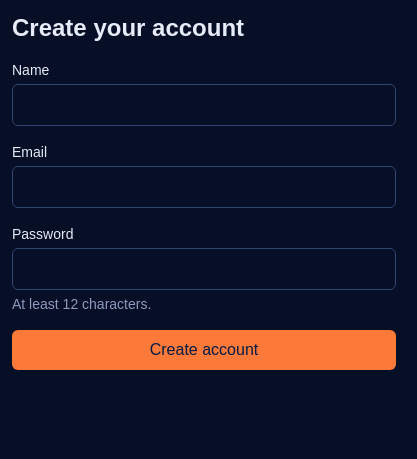
Scenario: RegisterForm › never renders the password back to the user
This screenshot has width=417, height=459.
Type "Ann" into the field labelled "Name".
click(204, 105); type("Ann")  # box [12,84,396,126]
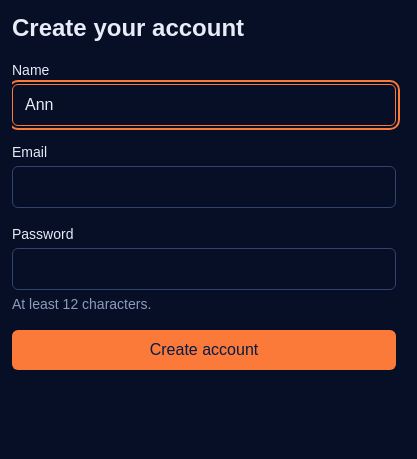
Type "ann@example.invalid" into the field labelled "Email".
click(204, 187); type("ann@example.invalid")  # box [12,166,396,208]
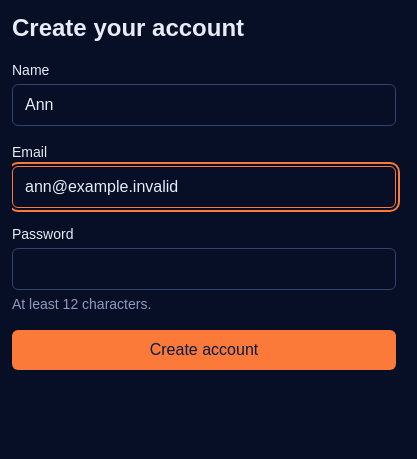
Type "my secret passphrase" into the password field labelled "Password".
click(204, 269); type("my secret passphrase")  # box [12,248,396,290]
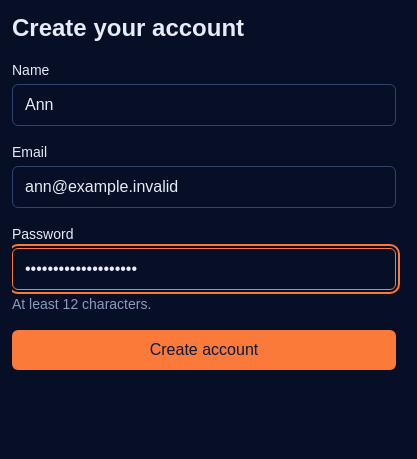
Click the button "Create account".
click(204, 350)  # box [12,330,396,370]
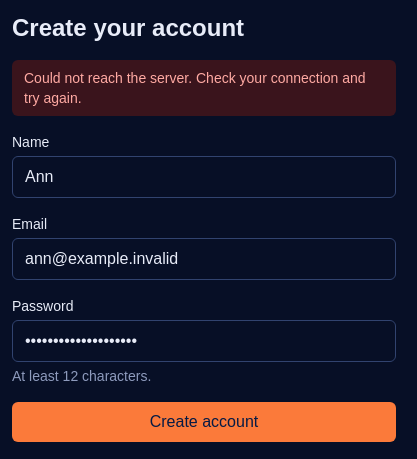
Check: the message "Could not reach the server. Check your connection and try again." is shown, box [12,60,396,116]
